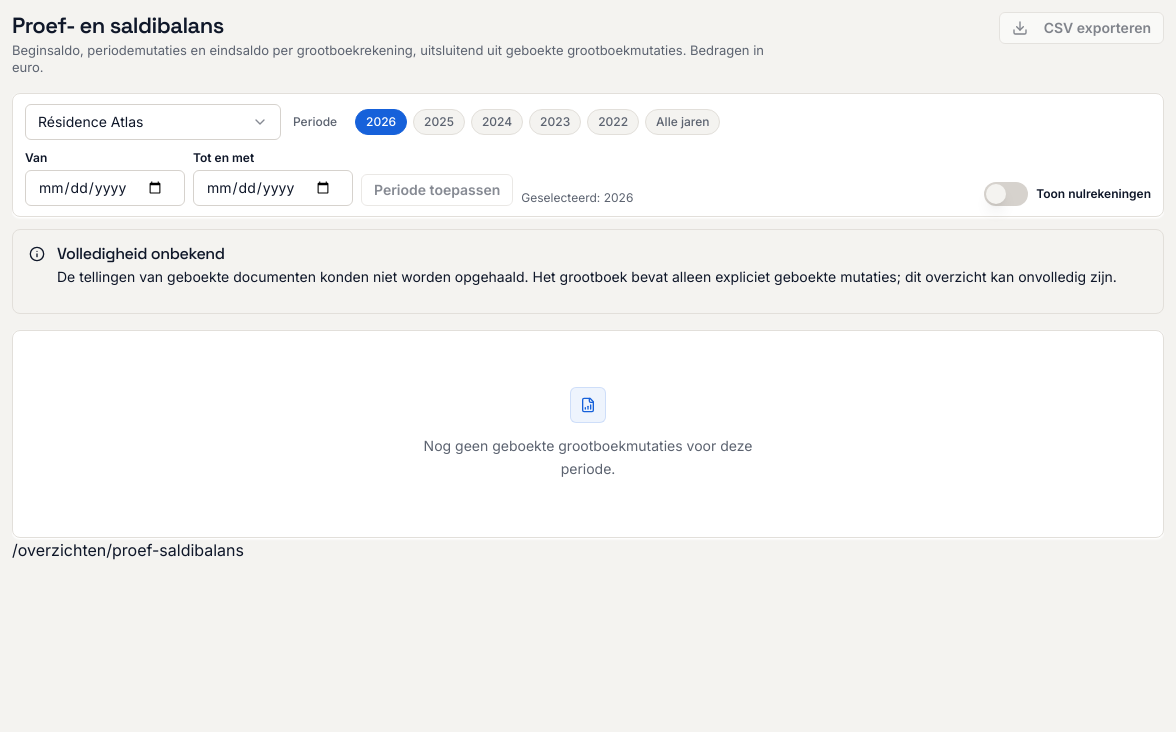
ProefSaldibalans — pagina › 25/26/27. periodefilters gaan half-open door, met dezelfde omzetting als PR 2
Step 1. Click the button "2025" → (439, 122), box left=413, top=109, right=465, bottom=135
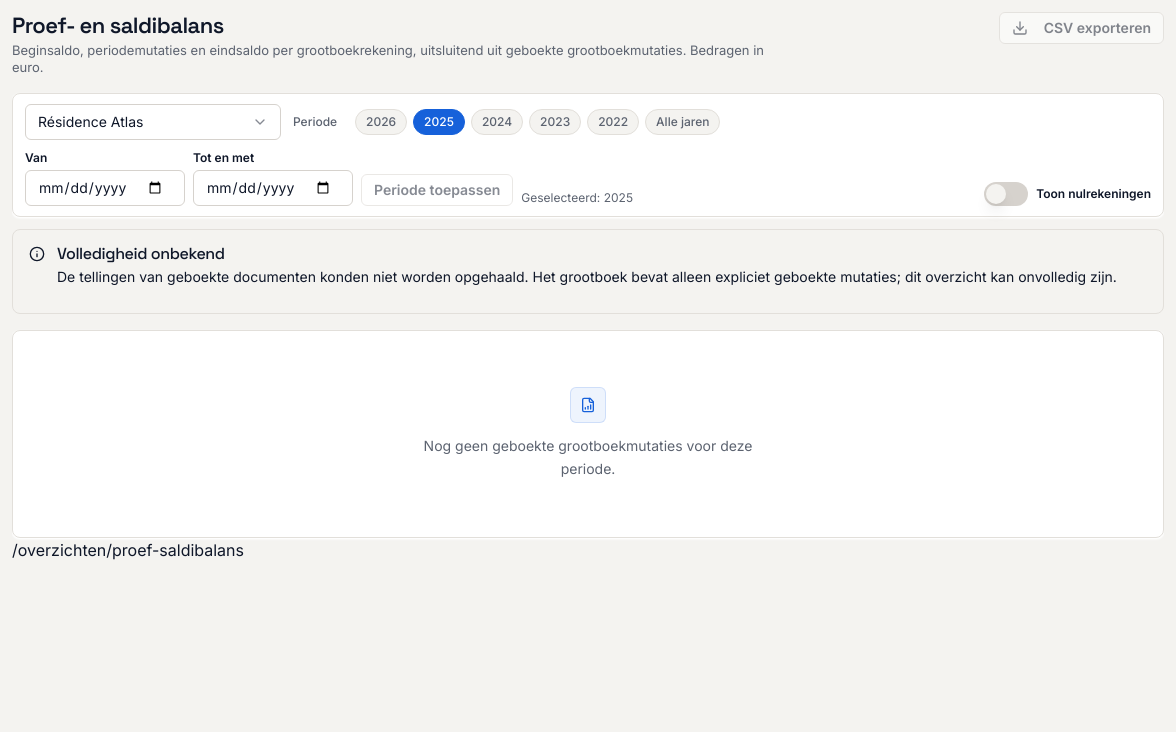
Step 2. Click the button "Alle jaren" → (683, 122), box left=645, top=109, right=720, bottom=135
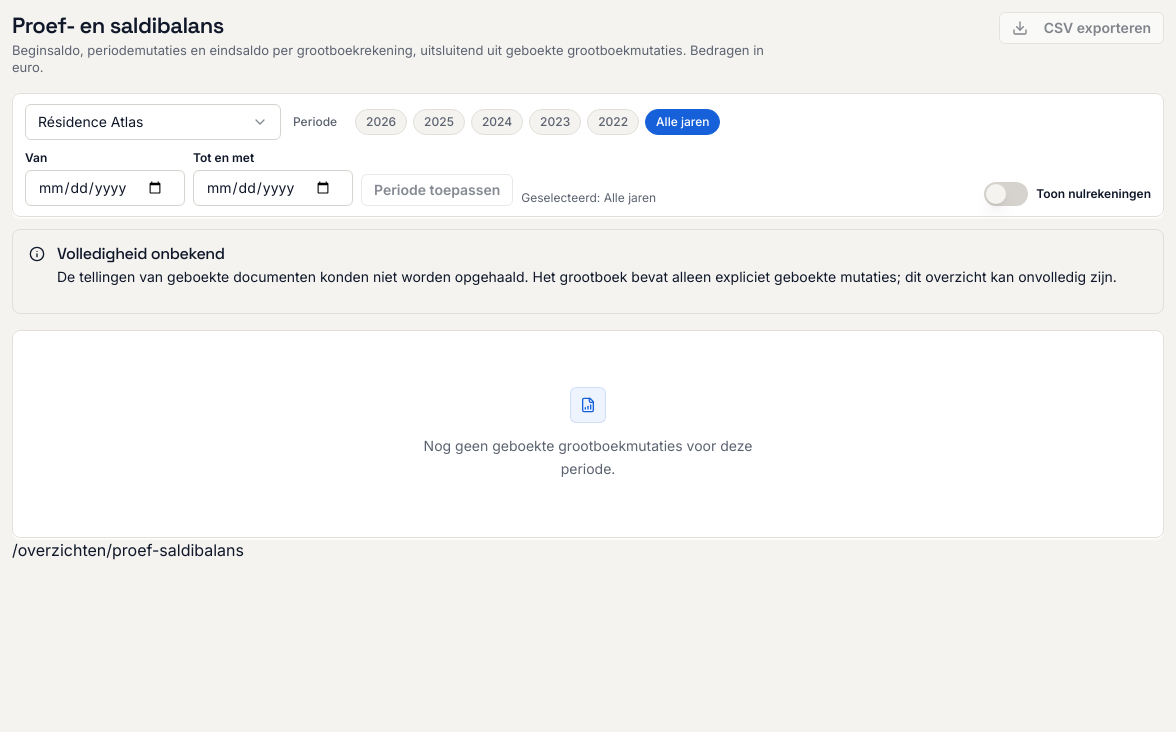
Step 3. Type "2027-02-01" into the date field labelled "Van" → (105, 188), box left=25, top=170, right=185, bottom=206
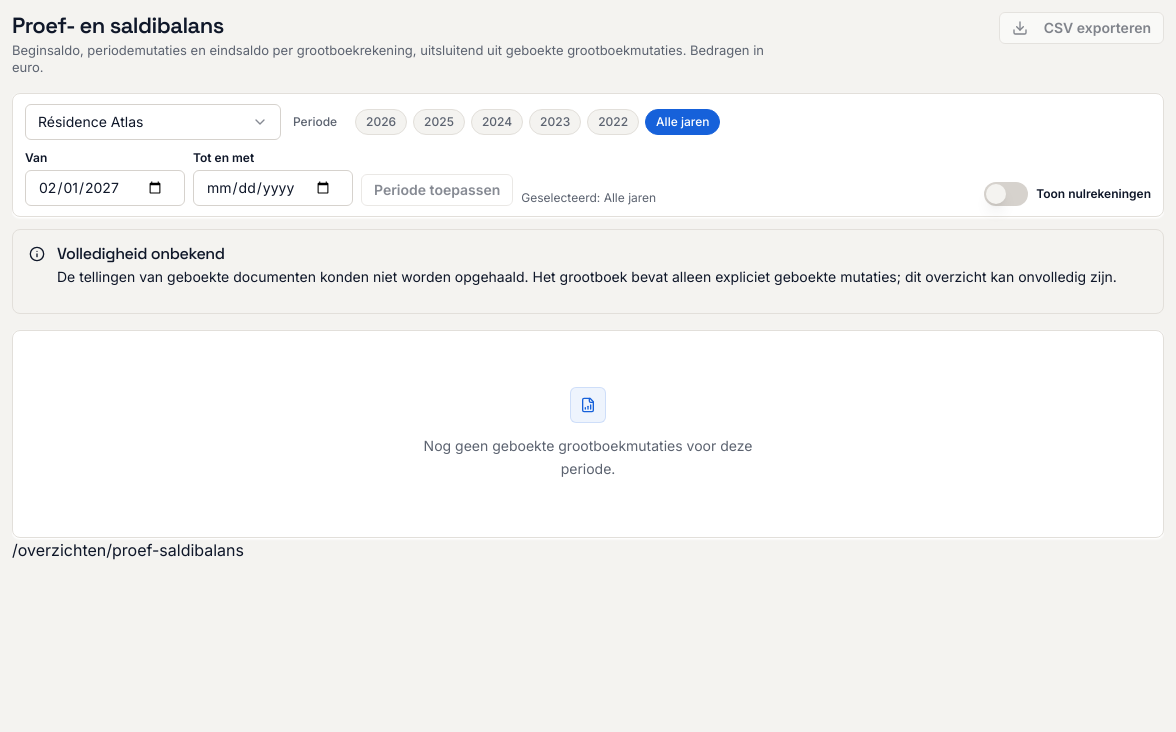
Step 4. Type "2027-02-28" into the date field labelled "Tot en met" → (273, 188), box left=193, top=170, right=353, bottom=206
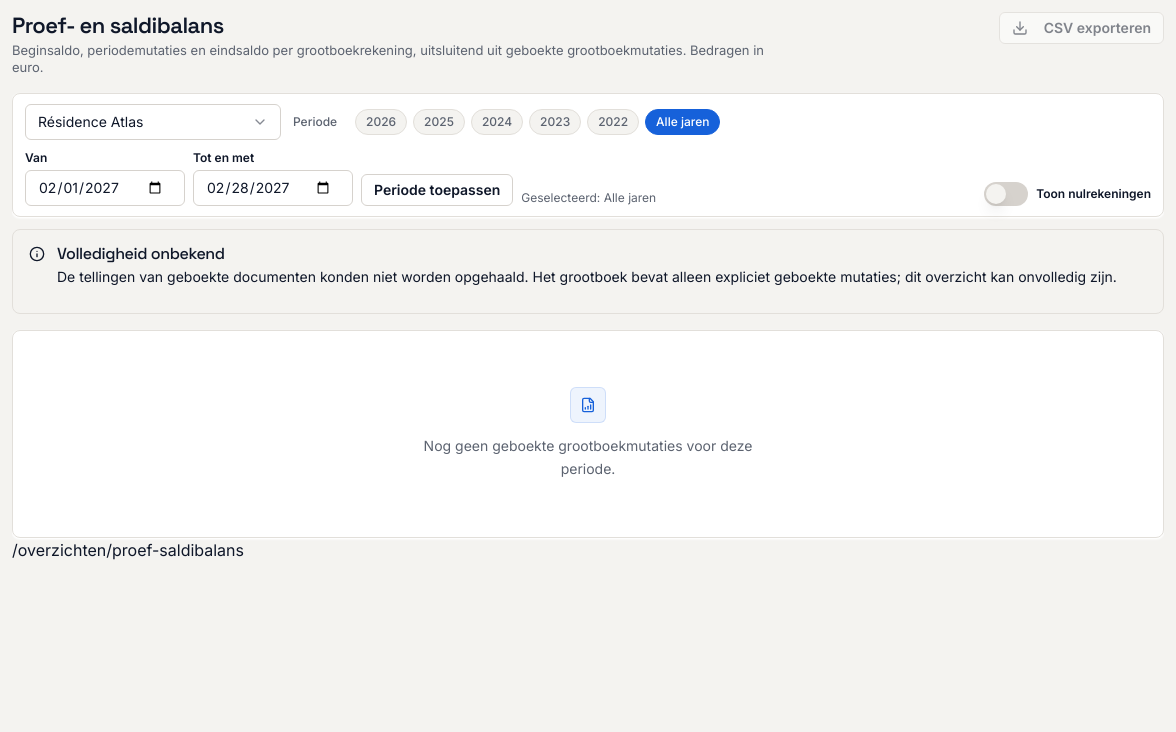
Step 5. Click the button "Periode toepassen" → (437, 190), box left=361, top=174, right=513, bottom=206
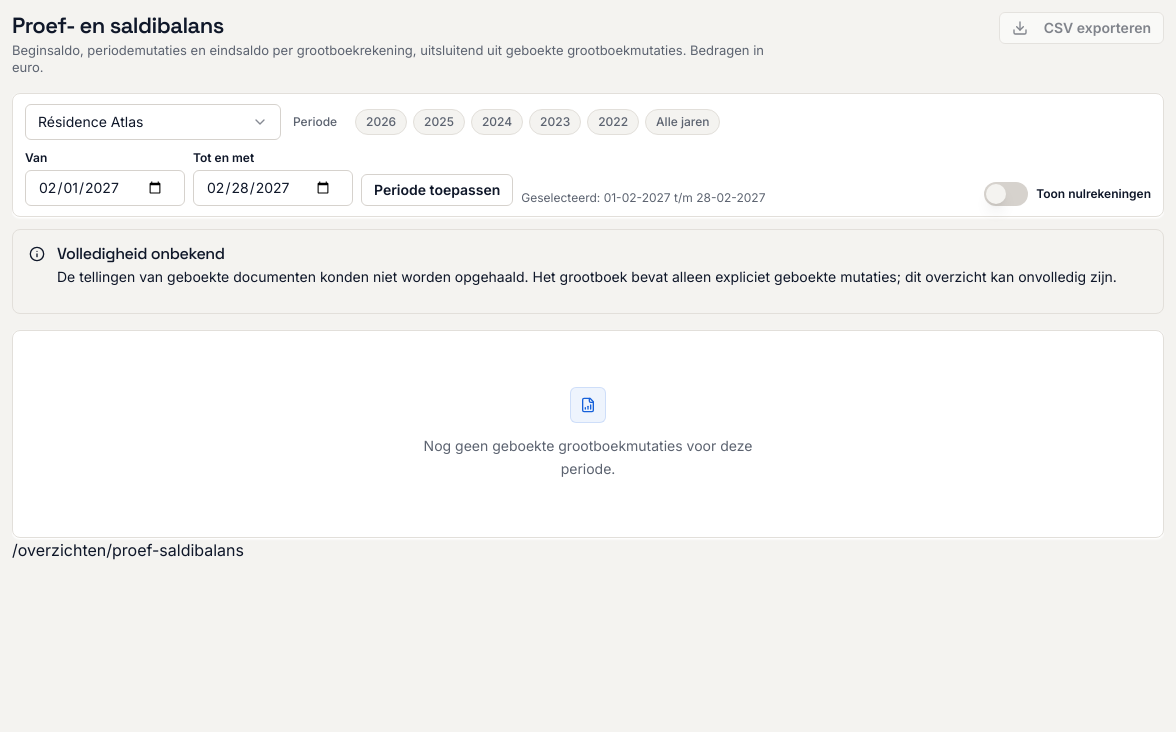
Expected: the text with test id "psb-period-label" shows "01-02-2027 t/m 28-02-2027", left=604, top=190, right=766, bottom=205
